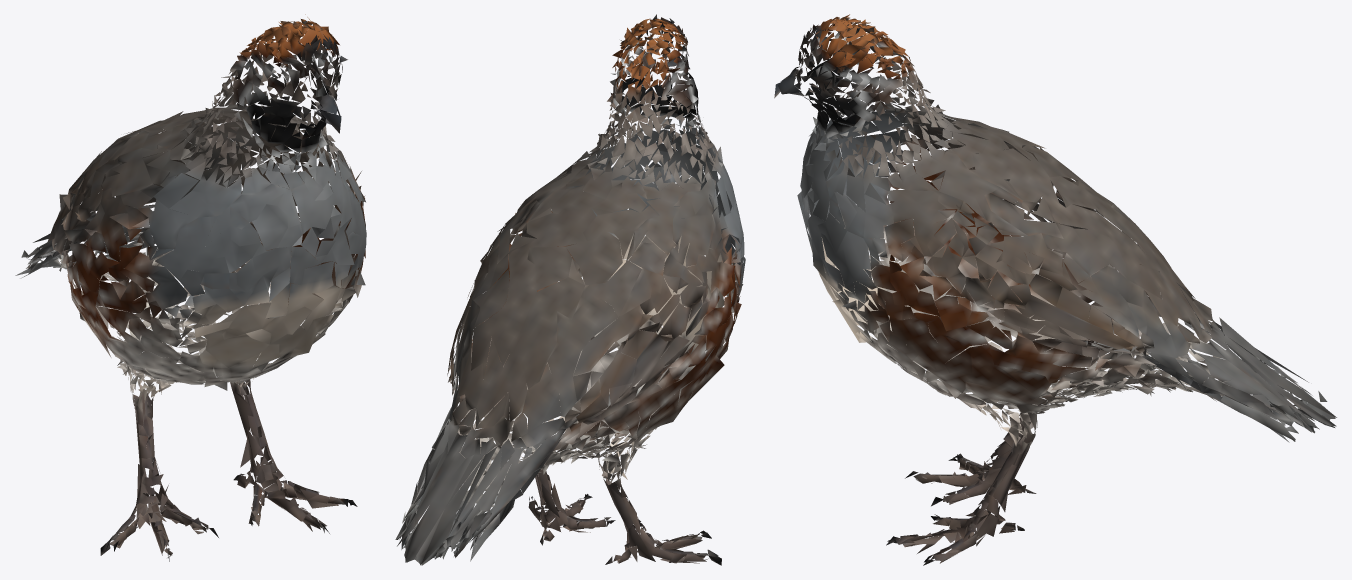
Rendered from quail.glb.
3 views of the same model, side by side, from view 1: azimuth 30°, elevation 25°; view 2: azimuth 150°, elevation 25°; view 3: azimuth 270°, elevation 25° (orthographic). The views are drawn at different scales.
Visible parts, largest first — view 1: LO.001; view 2: LO.001; view 3: LO.001.
Boxes of the visible parts, x1,y1,x2,y2 form: LO.001: [15, 14, 366, 561]; LO.001: [395, 14, 745, 565]; LO.001: [774, 14, 1336, 565].
Bounding box in the file's own units: 0.9407 × 1.92 × 1.92.
1 material, 1 textured.
